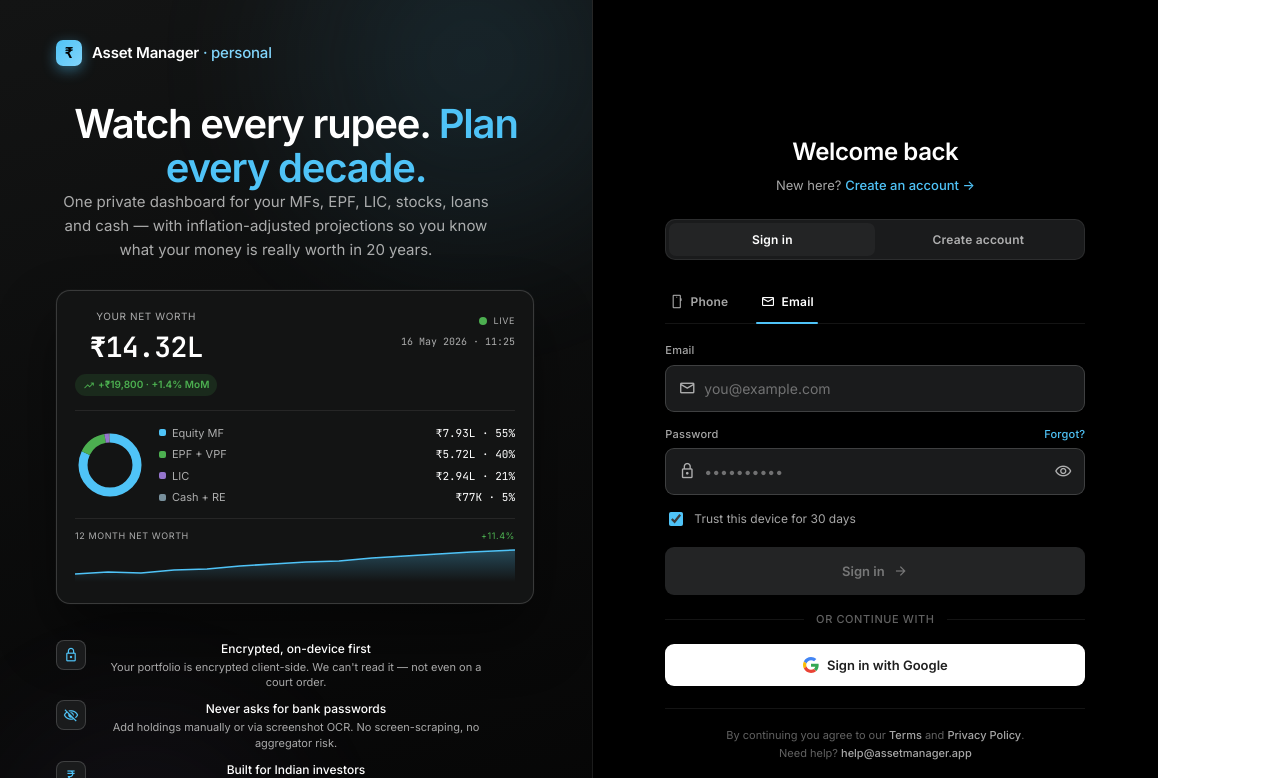
Login Component › Mode switching › clicking Sign in tab from register returns to sign-in heading
Step 1. Click the tab "Create account" → click(978, 240), box [875,223,1081,256]
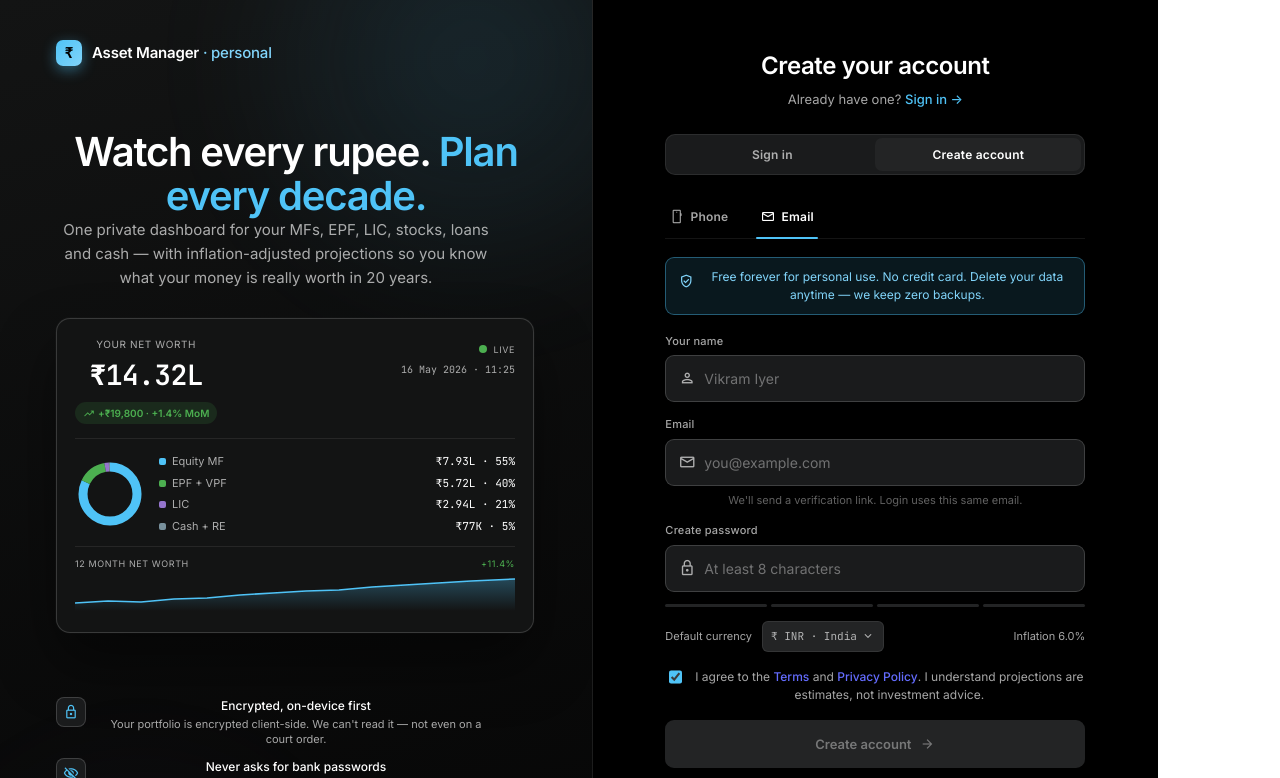
Step 2. Click the tab "Sign in" → click(772, 154), box [669,138,875,170]
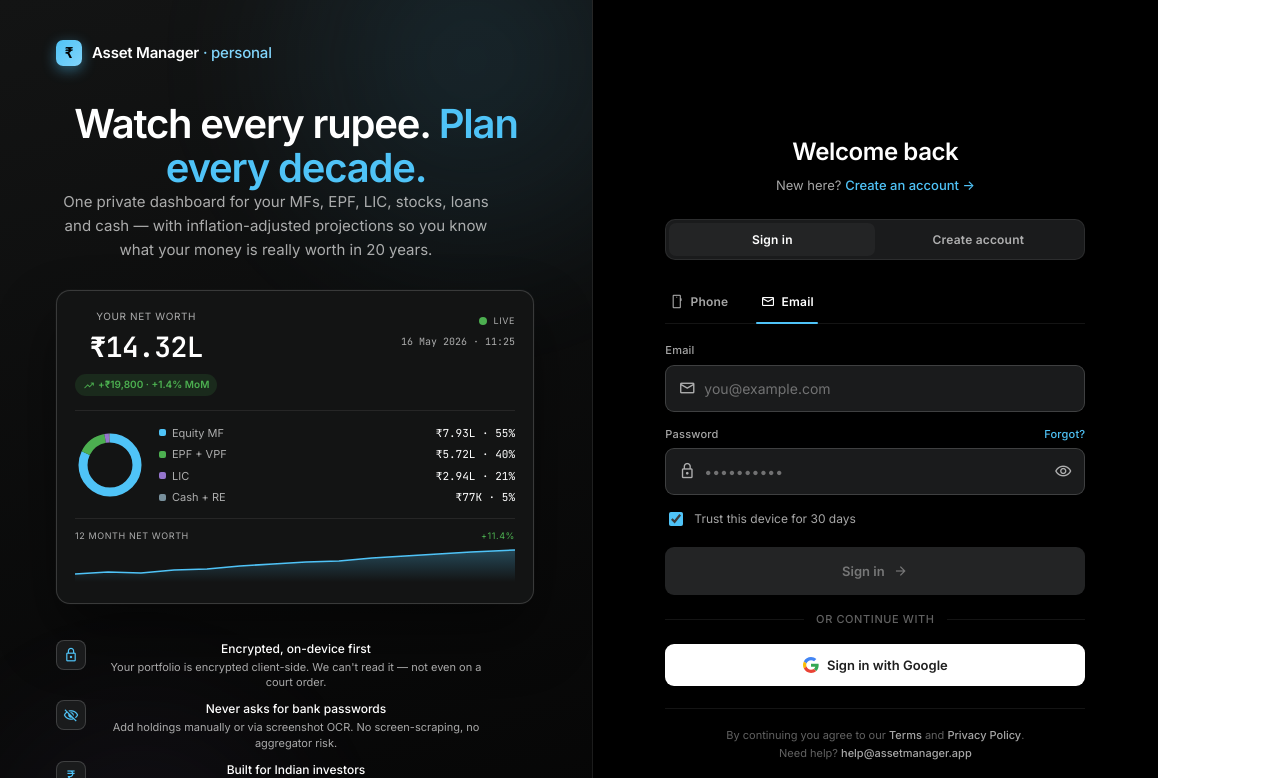
Expected: the heading "Welcome back" is shown, [792,137,958,166]
